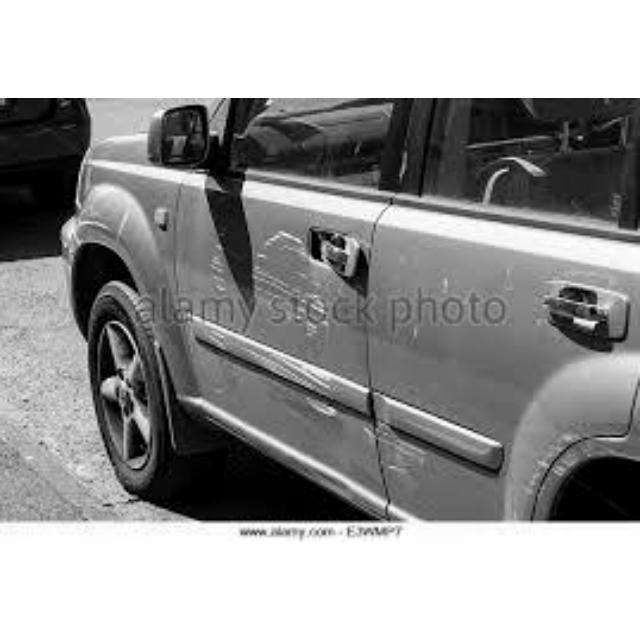doorouter-dent: (376, 203, 592, 519), (182, 187, 355, 474)
fender-dent: (67, 156, 185, 267)
